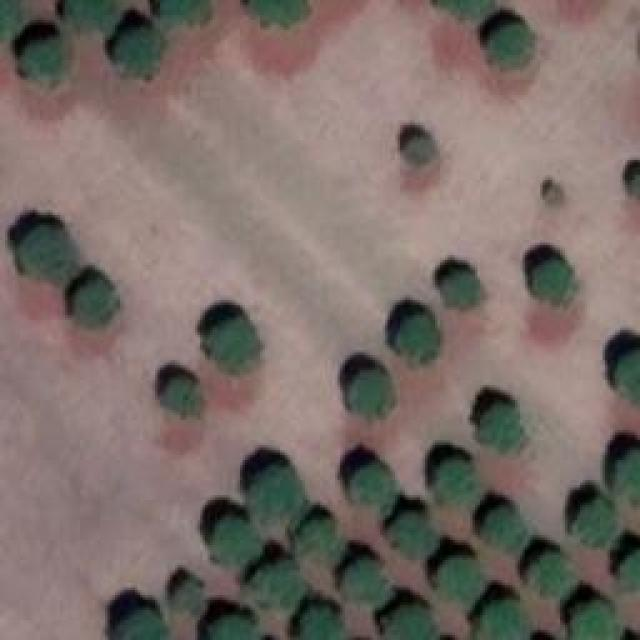Tree: (203, 308, 266, 381), (248, 465, 303, 528), (473, 388, 528, 448), (288, 518, 351, 568), (520, 245, 573, 303), (23, 220, 78, 275), (105, 20, 160, 75), (250, 558, 308, 608), (385, 508, 438, 561), (435, 553, 485, 608), (205, 515, 258, 565), (67, 275, 115, 330), (393, 300, 436, 360), (485, 18, 535, 68), (345, 365, 393, 415), (475, 597, 530, 640), (17, 32, 65, 80), (572, 500, 620, 545), (340, 560, 390, 603), (345, 463, 395, 506), (523, 550, 573, 593), (432, 458, 480, 501), (118, 605, 173, 640), (382, 600, 430, 640), (483, 505, 526, 548), (569, 597, 612, 640), (160, 370, 203, 413), (295, 602, 340, 640), (612, 345, 640, 405), (440, 263, 478, 306), (400, 123, 438, 166), (170, 575, 205, 620), (208, 612, 261, 640), (612, 450, 640, 498), (620, 543, 640, 588), (540, 177, 563, 205), (625, 160, 640, 198)
